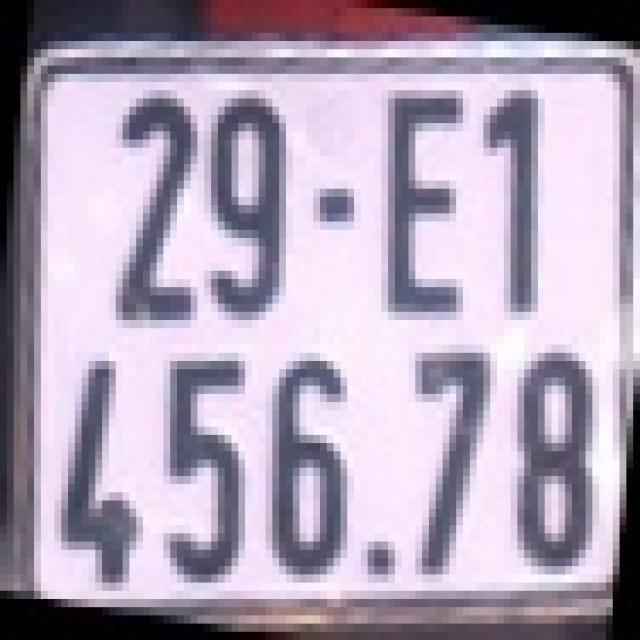1: (483, 90, 545, 312)
2: (116, 90, 198, 320)
4: (61, 352, 143, 582)
5: (164, 352, 245, 582)
6: (266, 353, 348, 574)
7: (408, 344, 491, 574)
8: (518, 344, 592, 566)
9: (204, 90, 286, 320)
E: (388, 90, 470, 320)
